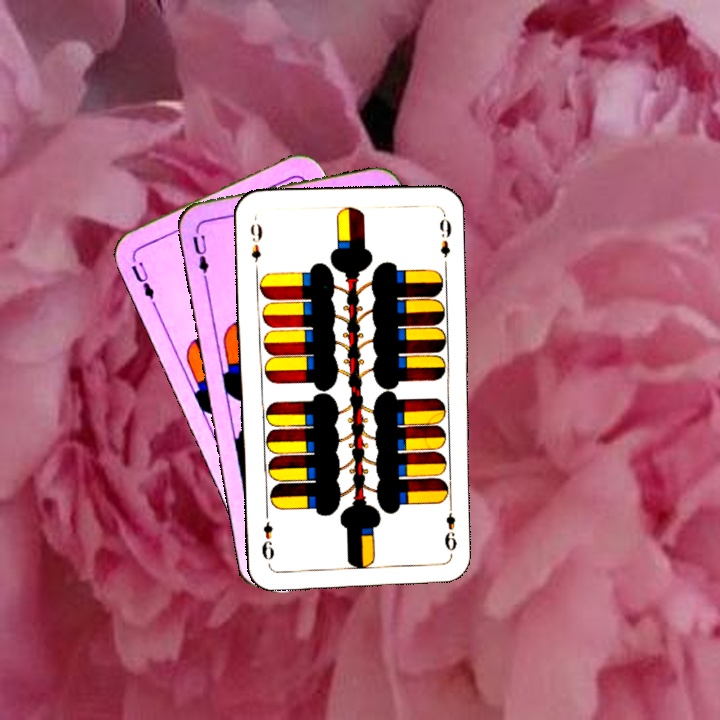E9: (440, 500, 459, 559), (246, 220, 265, 265)
EU: (127, 258, 159, 309), (188, 224, 211, 283)
